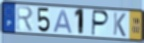1: (73, 8, 85, 37)
5: (37, 7, 51, 33)
A: (52, 9, 73, 35)
K: (113, 12, 127, 38)
P: (91, 9, 111, 37)
R: (16, 5, 35, 33)
